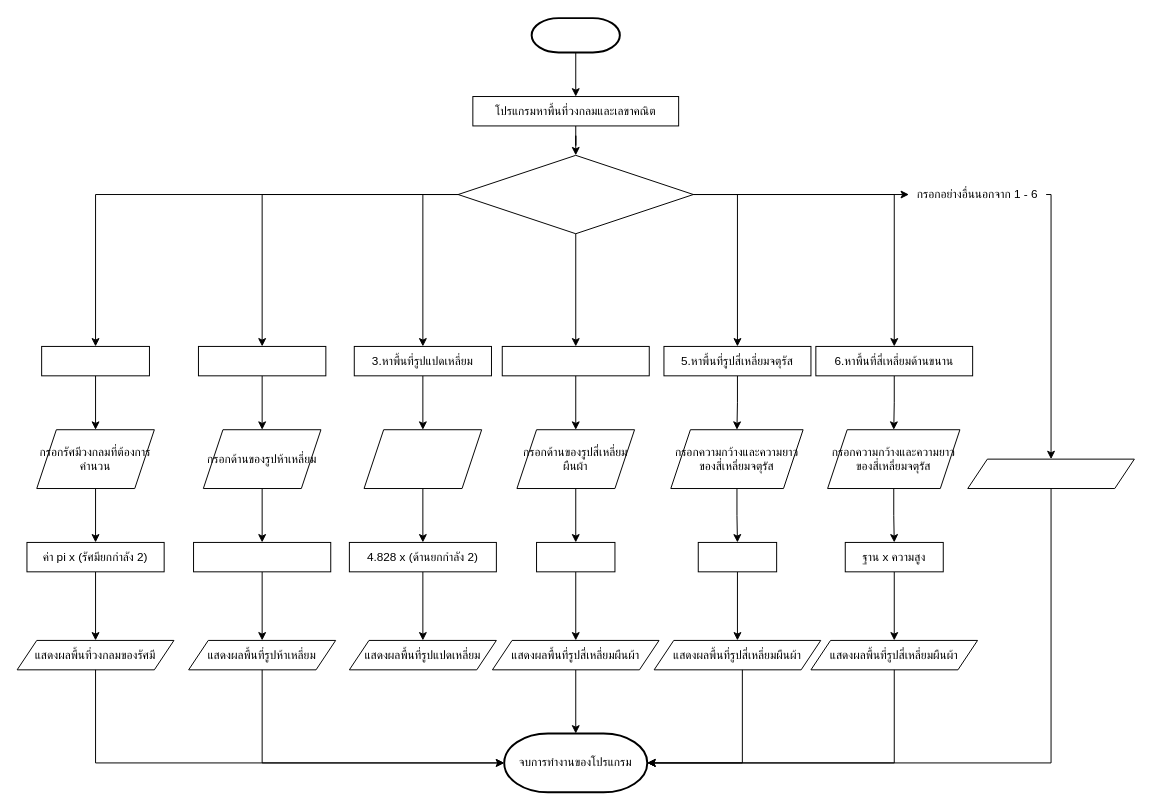
Some shapes in this 1152 by 809 pixel diagram are drawn without their labels. The shapes that lost their labels are listed below. From the top down, each one's centre as x and y in pixels, then its label:
[575,35]: เริ่มโปรแกรม
[575,194]: เลือก 1-6 โปรแกรมที่ได้สร้างไว้
[95,360]: 1.หาพื้นที่วงกลม
[261,360]: 2.หาพื้นที่รูปห้าเหลี่ยม
[575,360]: 4.หาพื้นที่รูปสี่เหลี่ยมผืนผ้า
[422,459]: กรอกด้านของรูปแปดเหลี่ยม
[1050,473]: แสดงข้อความว่าป้อนคำสั่งผิด
[262,556]: 1.72 x (ด้านยกกำลัง 2)
[575,556]: ด้าน x ด้าน
[737,556]: กว้าง x ยาว
